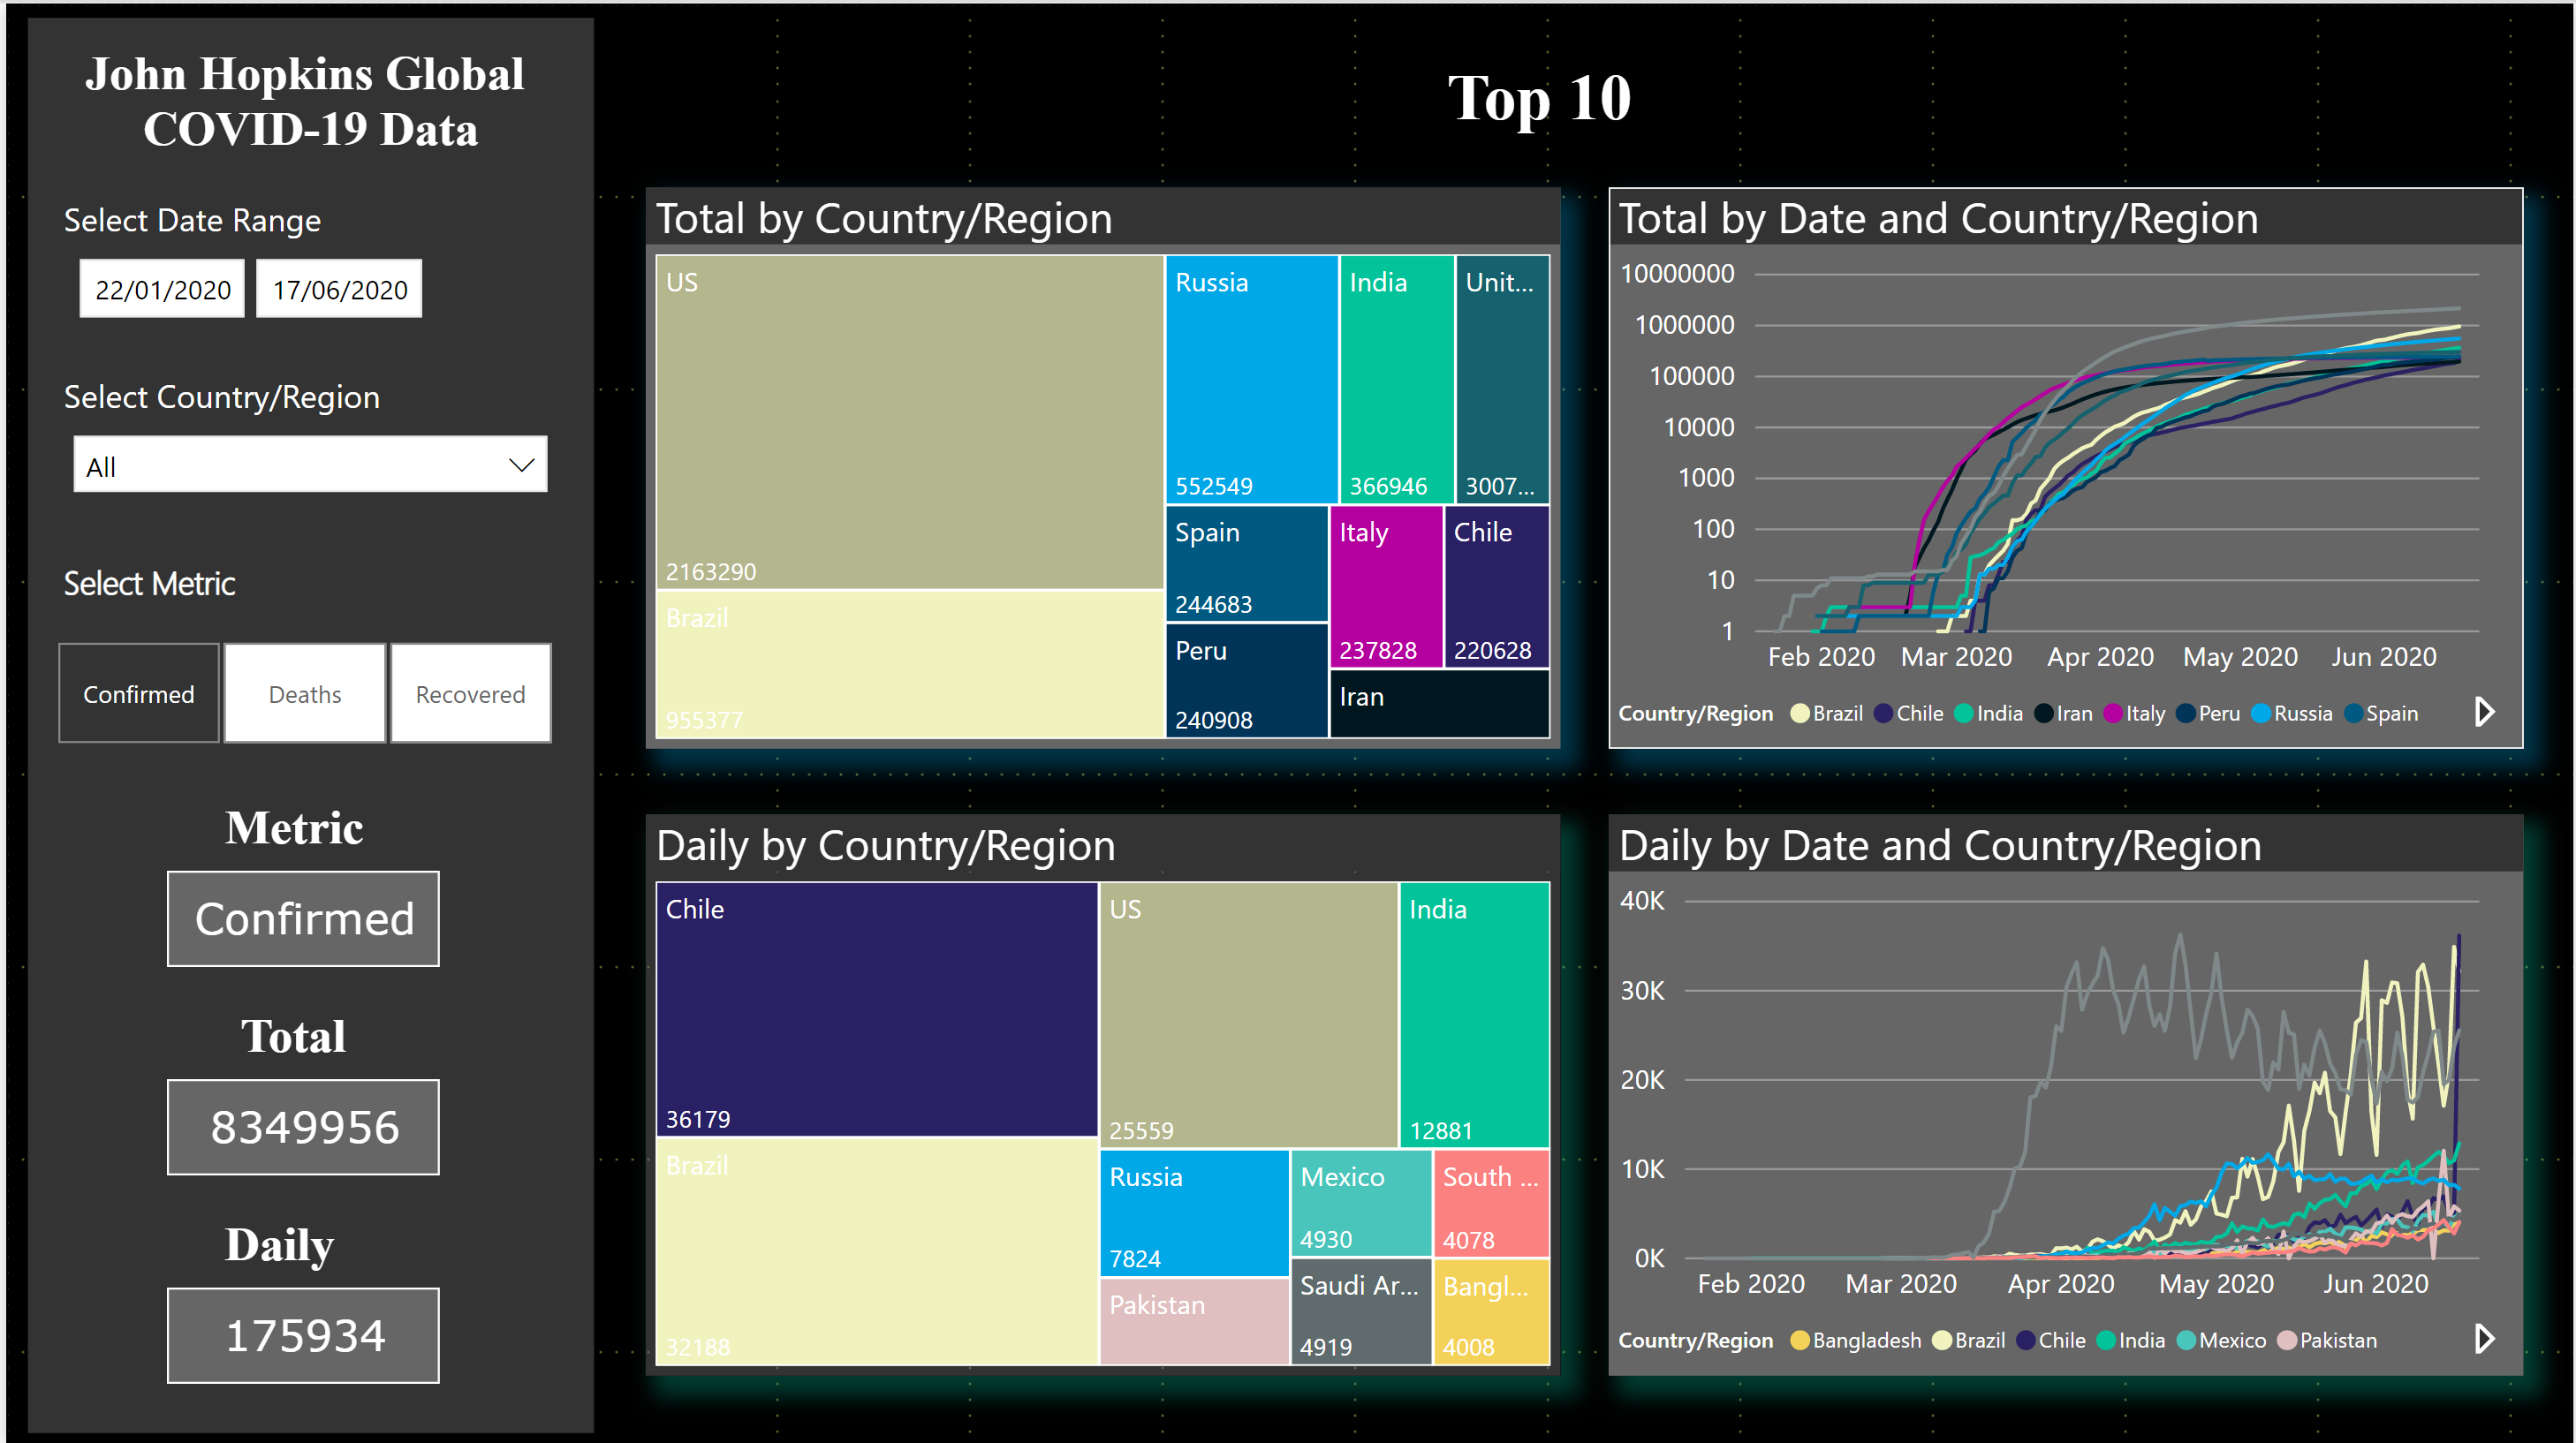

The dashboard page shown, as its layout file describes it:
{"tool":"powerbi","page":{"name":"JH Global Data Report 2","canvas":[1280,720],"ordinal":1},"visuals":[{"type":"basicShape","box":[8,0,288,720],"z":0},{"type":"treemap","title":"Daily by Country/Region","fields":{"Group":["COVID-19 CDR-Combined.Country/Region"],"Values":["All Measures.Daily Measure Logic"]},"box":[318.6,403.9,456,280],"z":1000},{"type":"treemap","title":"Total by Country/Region","fields":{"Group":["COVID-19 CDR-Combined.Country/Region"],"Values":["All Measures.Total Measure Logic"]},"box":[318.6,91.9,456,280],"z":2000},{"type":"textbox","box":[632,24,272,48],"z":3000},{"type":"textbox","box":[8,16,288,80],"z":4000},{"type":"slicer","title":"Select Date Range","fields":{"Values":["Calendar.Date"]},"box":[24,96,232,64],"z":5000},{"type":"slicer","title":"Select Country/Region","fields":{"Values":["COVID-19 CDR-Combined.Country/Region"]},"box":[24,184,256,64],"z":6000},{"type":"slicer","fields":{"Values":["Metrics.Measure"]},"box":[0,312,296,64],"z":7000},{"type":"textbox","box":[24,272,160,32],"z":8000},{"type":"lineChart","title":"Total by Date and Country/Region","fields":{"Category":["Calendar.Date"],"Y":["All Measures.Total Measure Logic"],"Series":["COVID-19 CDR-Combined.Country/Region"]},"box":[798.6,91.9,456,280],"z":9000},{"type":"lineChart","title":"Daily by Date and Country/Region","fields":{"Y":["All Measures.Daily Measure Logic"],"Series":["COVID-19 CDR-Combined.Country/Region"],"Category":["Calendar.Date"]},"box":[798.6,403.9,456,280],"z":10000},{"type":"card","fields":{"Values":["All Measures.Metric Selected"]},"box":[80,432,136,48],"z":11000},{"type":"card","fields":{"Values":["All Measures.Total Measure Logic"]},"box":[80,536,136,48],"z":12000},{"type":"card","fields":{"Values":["All Measures.Daily Measure Logic"]},"box":[80,640,136,48],"z":13000},{"type":"textbox","box":[104,392,96,48],"z":14000},{"type":"textbox","box":[112,496,80,48],"z":15000},{"type":"textbox","box":[104,600,80,48],"z":16000}]}

Visuals, with their boxes in screenshot pixels (x1, y1, x2, y2), scaled from the page's 1280x720 canvas onto the 2576x1443 screenshot:
basicShape: <box>16,0,595,1442</box>
"Daily by Country/Region" treemap: <box>641,810,1559,1371</box>
"Total by Country/Region" treemap: <box>641,185,1559,745</box>
textbox: <box>1272,48,1819,144</box>
textbox: <box>16,32,595,193</box>
"Select Date Range" slicer: <box>49,193,515,321</box>
"Select Country/Region" slicer: <box>49,369,564,497</box>
slicer - Metrics.Measure: <box>0,625,595,753</box>
textbox: <box>49,545,370,609</box>
"Total by Date and Country/Region" lineChart: <box>1607,185,2525,745</box>
"Daily by Date and Country/Region" lineChart: <box>1607,810,2525,1371</box>
card - All Measures.Metric Selected: <box>161,865,435,962</box>
card - All Measures.Total Measure Logic: <box>161,1074,435,1170</box>
card - All Measures.Daily Measure Logic: <box>161,1282,435,1379</box>
textbox: <box>209,786,403,882</box>
textbox: <box>225,994,386,1091</box>
textbox: <box>209,1203,370,1299</box>
